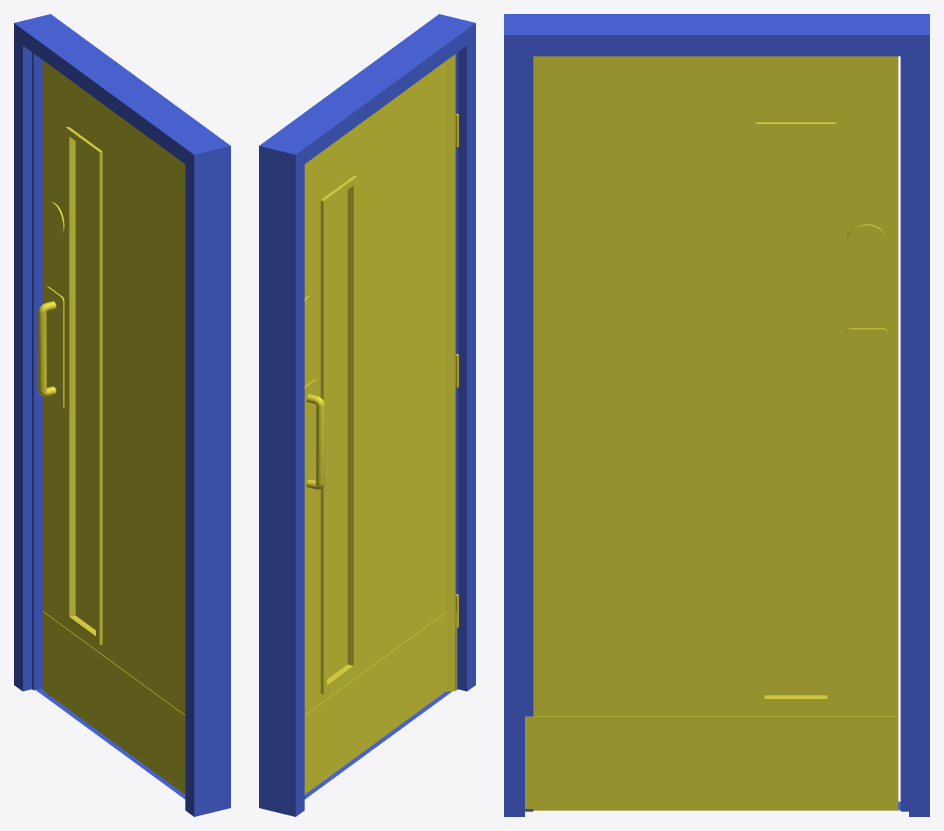
Rendered from DoorClassClose.fbx.
The picture shows the model from 3 angles, left to right: view 1: azimuth 30°, elevation 25°; view 2: azimuth 150°, elevation 25°; view 3: azimuth 270°, elevation 25°; orthographic projection. The views are drawn at different scales.
Visible parts, largest first — view 1: SM Office Door; view 2: SM Office Door; view 3: SM Office Door.
Part boxes in pixels (bbox=[...]): SM Office Door: bbox=[14, 14, 230, 816]; SM Office Door: bbox=[259, 14, 475, 816]; SM Office Door: bbox=[504, 14, 929, 816].
Size of the model in its own units: 12.66 by 207 by 102.
